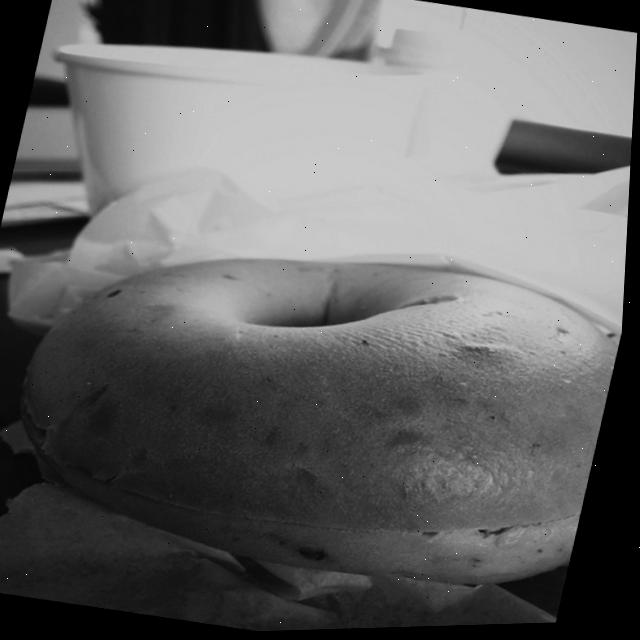面包点心: (0, 189, 632, 625)
